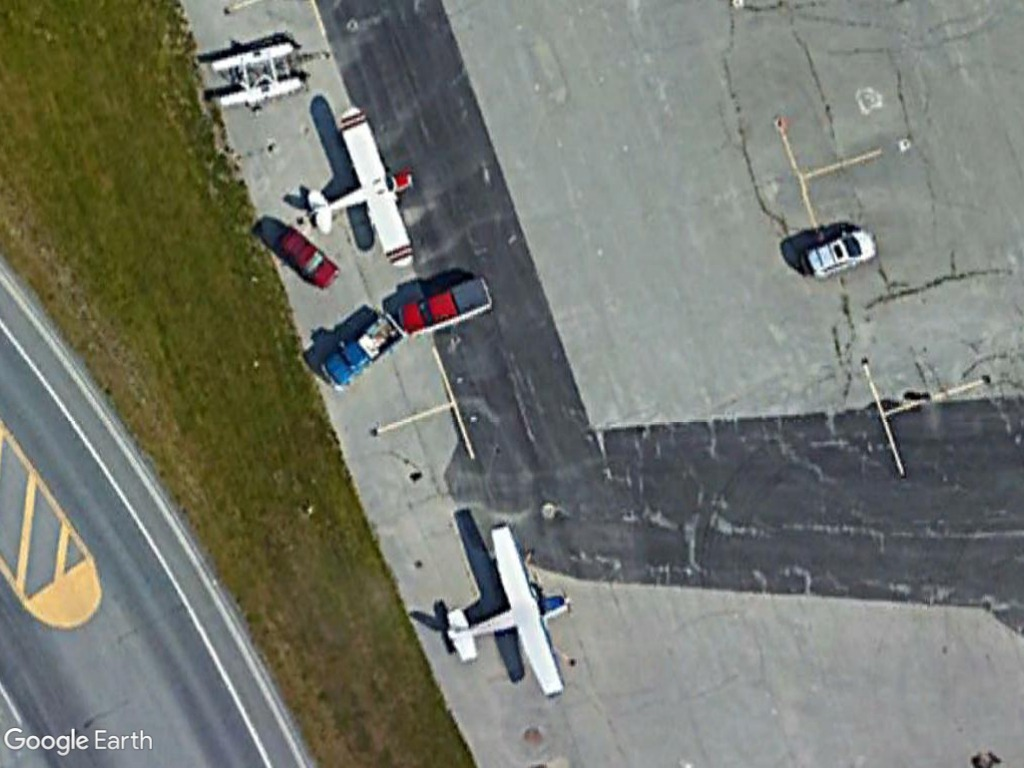car: (799, 228, 879, 283), (275, 226, 342, 290)
other: (317, 307, 404, 387), (401, 279, 494, 339)
trainer: (434, 518, 575, 704), (304, 100, 427, 271)
